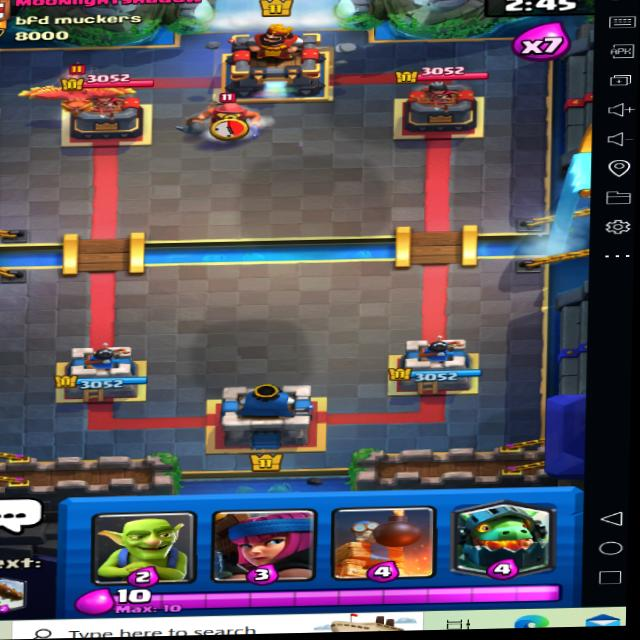fisherman: (176, 92, 272, 143)
phoenix: (18, 62, 138, 119)
